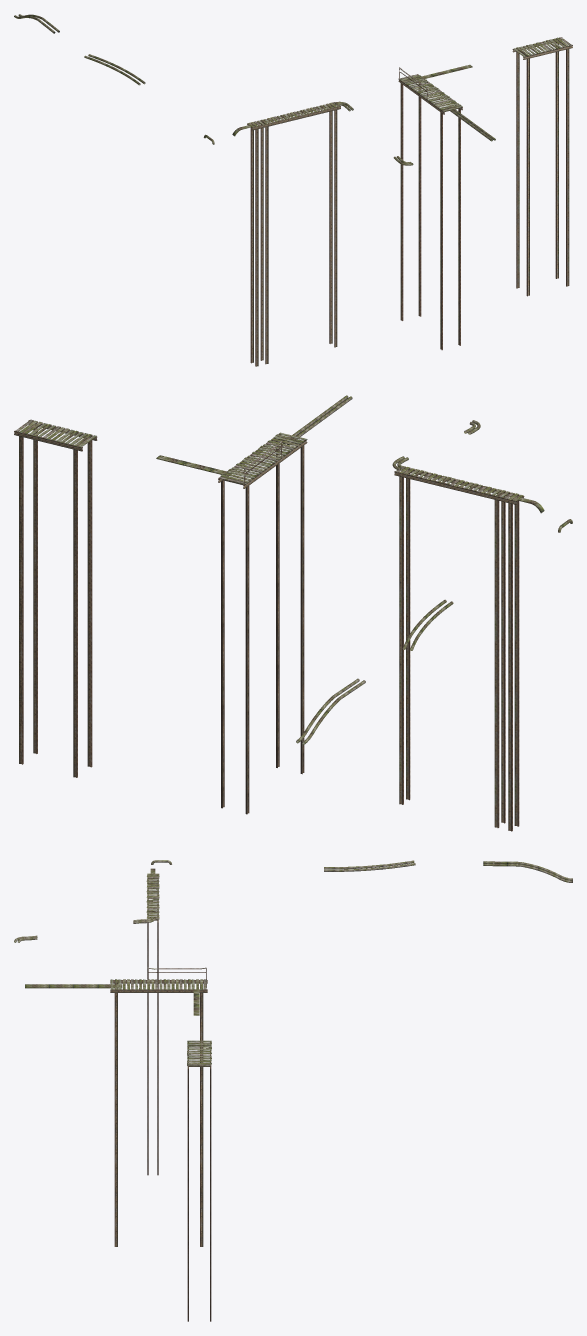
The picture shows the model from 3 angles, top to bottom: view 1: azimuth 30°, elevation 25°; view 2: azimuth 150°, elevation 25°; view 3: azimuth 270°, elevation 25°; orthographic projection. The views are drawn at different scales.
Parts seen in each view (by area): view 1: RAMP.009, RAMP, RAMP.008, RAMP.010; view 2: RAMP, RAMP.009, RAMP.008, RAMP.010, pipe.001; view 3: RAMP.008, RAMP, RAMP.009.
Part boxes in pixels (bbox=[...]): RAMP.009: bbox=[257, 102, 340, 364]; RAMP: bbox=[512, 37, 572, 296]; RAMP.008: bbox=[398, 74, 462, 350]; RAMP.010: bbox=[247, 121, 262, 366]; RAMP: bbox=[14, 419, 97, 777]; RAMP.009: bbox=[394, 466, 510, 827]; RAMP.008: bbox=[218, 432, 307, 814]; RAMP.010: bbox=[503, 492, 524, 831]; pipe.001: bbox=[296, 678, 365, 744]; RAMP.008: bbox=[110, 979, 207, 1246]; RAMP: bbox=[187, 1040, 211, 1321]; RAMP.009: bbox=[146, 879, 159, 1175].
Bounding box in the file's own units: 3891 × 2482 × 4585.
